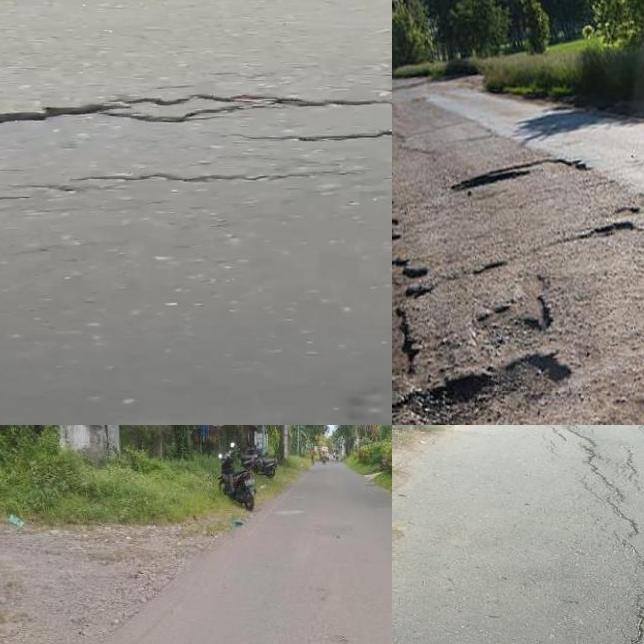Lubang: (407, 356, 580, 425)
Melintang: (0, 75, 392, 139)
Memanjang: (546, 425, 644, 644)
Pinggir: (392, 193, 442, 425)
